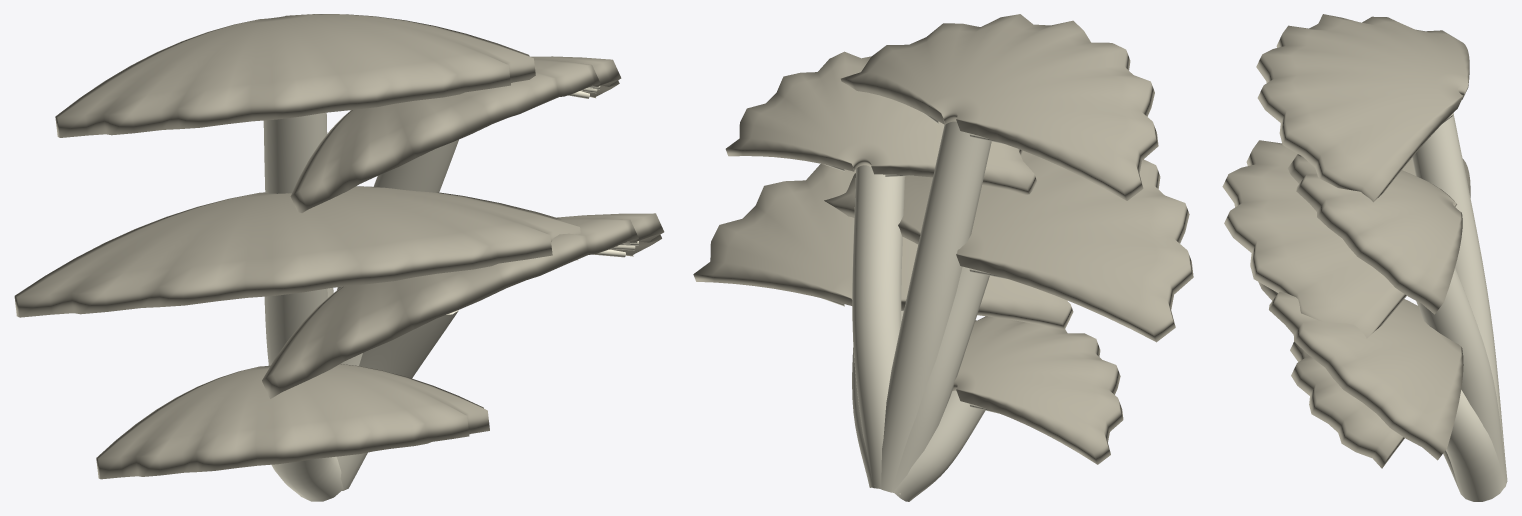
File: mushroom-farm-and-grow-rooms-oyster-mushroom-cluster-c6ac96ca__30827.glb
3 views of the same model, side by side, from view 1: azimuth 30°, elevation 25°; view 2: azimuth 150°, elevation 25°; view 3: azimuth 270°, elevation 25° (orthographic). The views are drawn at different scales.
Parts seen in each view (by area): view 1: oyster-mushroom-cluster; view 2: oyster-mushroom-cluster; view 3: oyster-mushroom-cluster.
Part boxes in pixels (left/top/right/bottom): oyster-mushroom-cluster: left=14, top=14, right=664, bottom=501; oyster-mushroom-cluster: left=693, top=14, right=1193, bottom=501; oyster-mushroom-cluster: left=1222, top=14, right=1507, bottom=501.
Bounding box in the file's own units: 0.3116 × 0.2581 × 0.1615.
